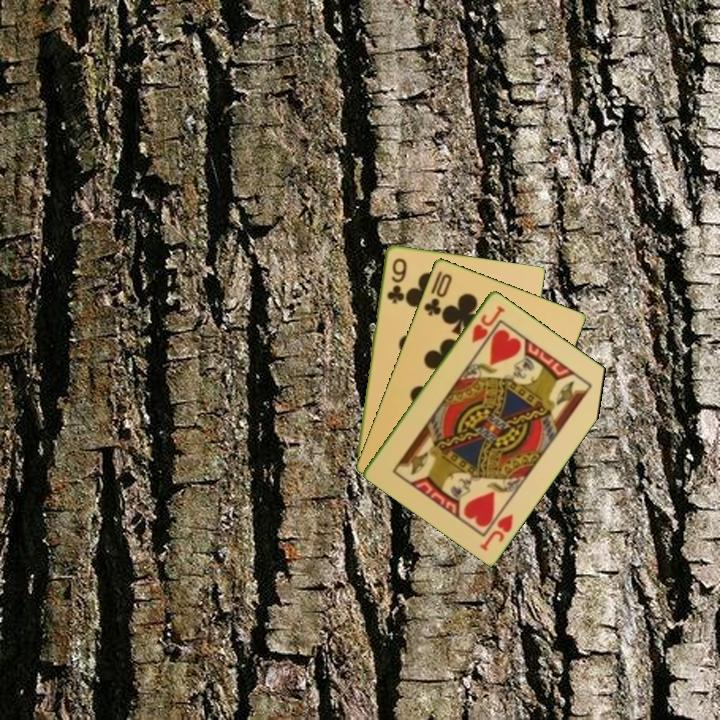10c: (420, 267, 455, 319)
9c: (383, 254, 409, 306)
Jh: (476, 510, 516, 553), (468, 302, 507, 346)
